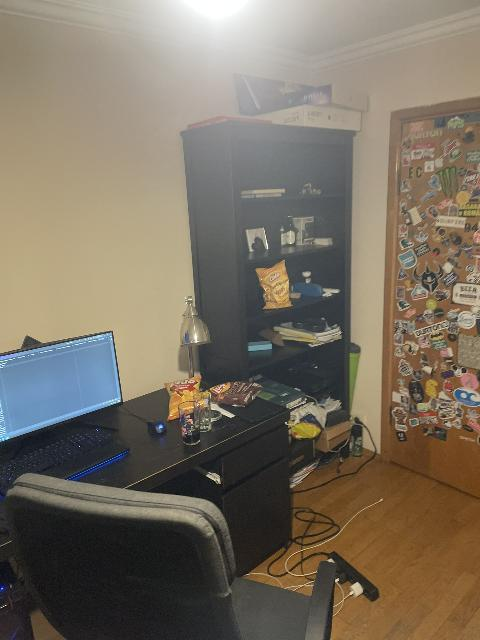Chio Cascaval 125g: (164, 375, 205, 422)
Chio Hula Hoops Cheese 70g: (255, 260, 293, 309)
Lays Beef Grilled Ribs 125g: (213, 380, 265, 406)
